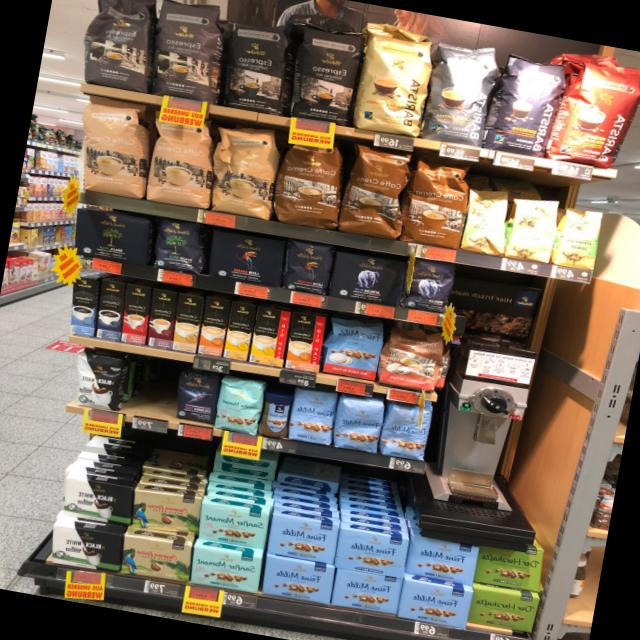AB Bohne: (397, 256, 457, 314)
AB Gemahlen: (325, 246, 407, 311)
Athiopien Bohne: (548, 204, 606, 273)
Athiopien Gemahlen: (457, 184, 515, 259), (504, 194, 561, 266)
BM Bohne: (150, 218, 208, 278)
BM Gemahlen: (68, 206, 155, 274)
BW Bohne: (68, 348, 130, 414)
BW Gemahlen: (45, 518, 125, 574), (62, 476, 133, 526)
Barista CB: (348, 28, 438, 140)
Barista CC: (416, 34, 504, 150)
Barista Espresso: (478, 47, 572, 161)
Barista Kolumbien: (539, 59, 640, 173)
C Fino Bohne: (172, 366, 222, 426)
CC Mild: (78, 96, 152, 200), (208, 122, 283, 221), (142, 117, 215, 211)
CC Vollmundig: (374, 323, 451, 398)
CC Vollmundig 36 Pads: (335, 144, 418, 244), (398, 156, 478, 253), (268, 138, 350, 232)
Colombia BB Gemahlen: (118, 531, 192, 582), (129, 487, 204, 535)
Empty Shelf: (128, 360, 180, 416)
Espresso M Art: (144, 0, 231, 107), (75, 0, 162, 94)
Espresso S Art: (286, 20, 368, 128), (217, 17, 300, 116)
FM 36 Pads: (318, 314, 388, 383)
FM Bohne: (376, 398, 436, 463), (329, 390, 386, 456), (284, 383, 338, 449)
FM Gemahlen: (396, 578, 476, 630), (334, 525, 411, 578), (259, 553, 337, 605), (404, 532, 479, 586), (328, 564, 405, 616), (266, 512, 342, 564)
FM Instant: (254, 388, 298, 444)
Herzhatfe Mundig: (470, 536, 546, 594), (467, 586, 541, 634)
LG Bohne: (280, 238, 336, 298)
LG Gemahlen: (206, 228, 290, 291)
SM Bohne: (211, 372, 269, 438)
SM Gemahlen: (188, 544, 265, 595), (195, 500, 271, 550)
Simo CCMild: (246, 304, 293, 367)
Simo CCMild bigpack: (223, 300, 258, 363)
Simo CCVollmundig: (283, 309, 328, 373)
Simo CCVollmundig bigpack: (196, 294, 232, 357)
Simo Decaff: (170, 292, 204, 356)
Simo Es Elegant: (119, 282, 152, 346)
Simo Es Kraft: (144, 287, 178, 350)
Simo Kaffee Kraft: (92, 278, 127, 343)
Simo Kaffee Mild: (68, 275, 100, 339)
